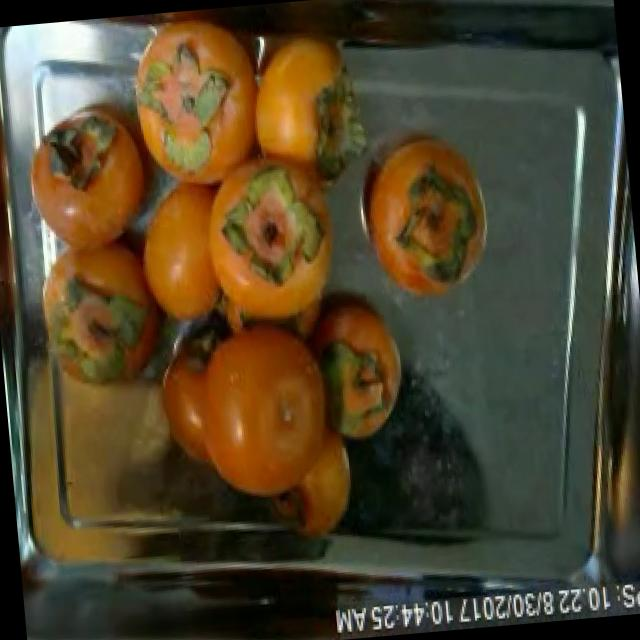Fruit: (344, 106, 500, 318), (298, 280, 428, 457)
